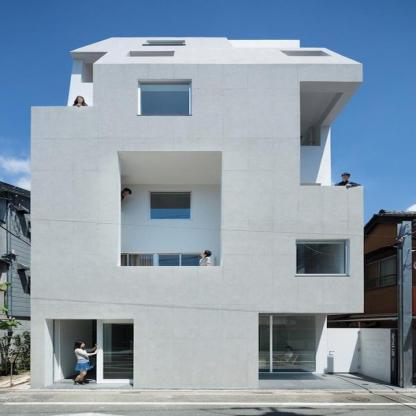Balcony: (118, 267, 223, 290), (31, 107, 95, 138), (300, 186, 364, 215)
Building Outline: (30, 37, 399, 389)
Door: (46, 319, 134, 388)
Facade: (29, 37, 399, 389)
Floor Slab: (32, 299, 363, 313), (31, 138, 300, 151), (222, 215, 364, 229), (121, 233, 221, 246), (31, 215, 117, 229)
Glass Wall: (259, 315, 316, 373), (121, 254, 208, 291)
Window: (117, 151, 221, 267), (300, 92, 344, 146), (297, 241, 345, 274), (140, 83, 189, 115), (150, 192, 190, 220), (279, 50, 332, 56), (125, 51, 174, 57), (144, 40, 185, 44)
